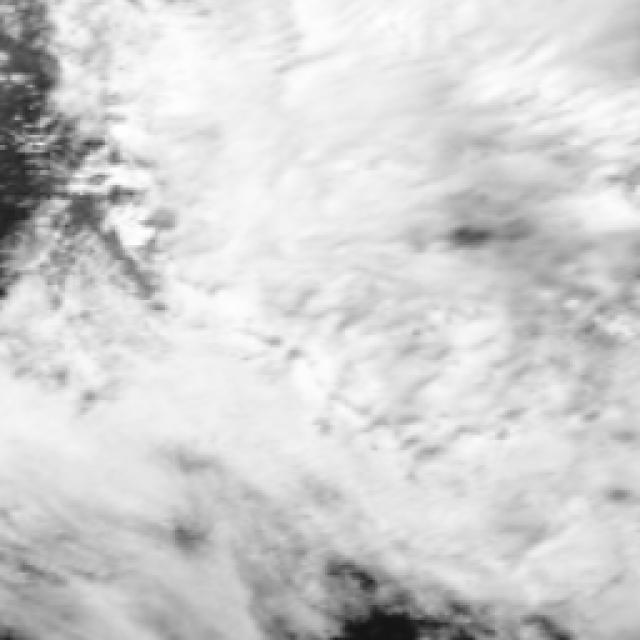CB: (200, 2, 405, 457)
